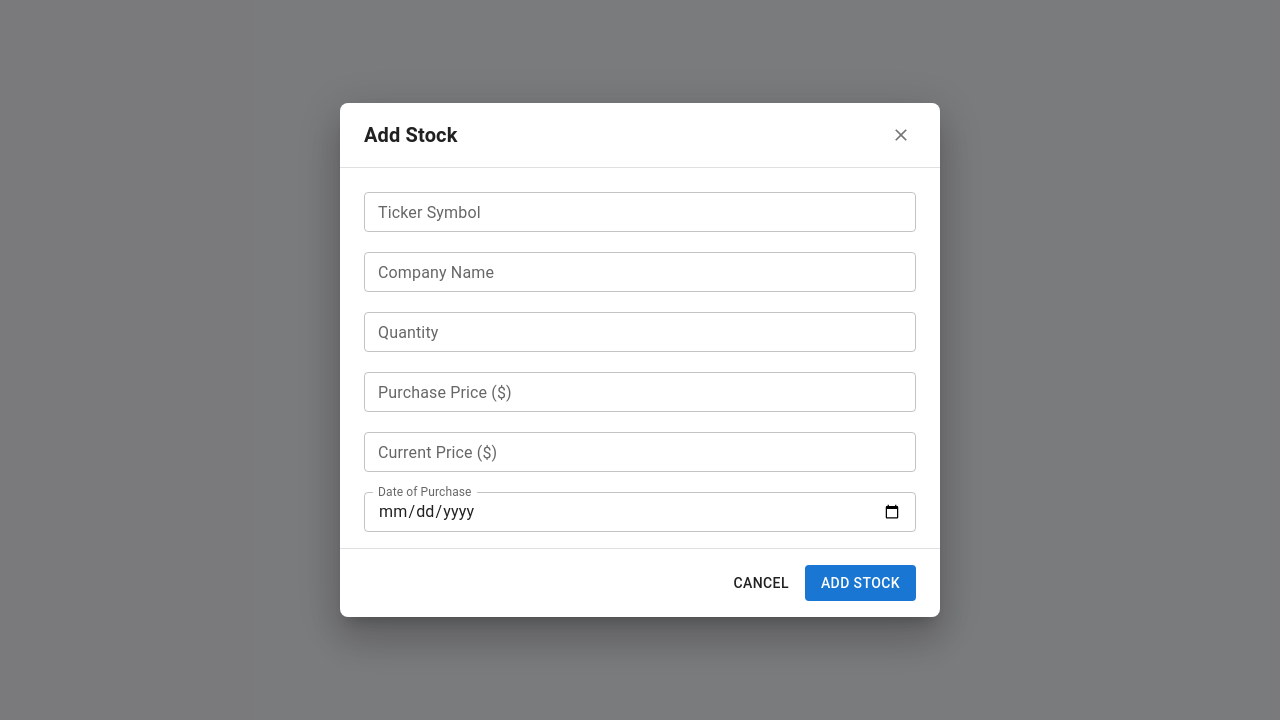
Test case: StockFormModal › should show validation errors on empty submit
# Click the submit button (last one, the action button)
Click the button "Add Stock" at {"x": 860, "y": 583}, box [805,565,916,601]
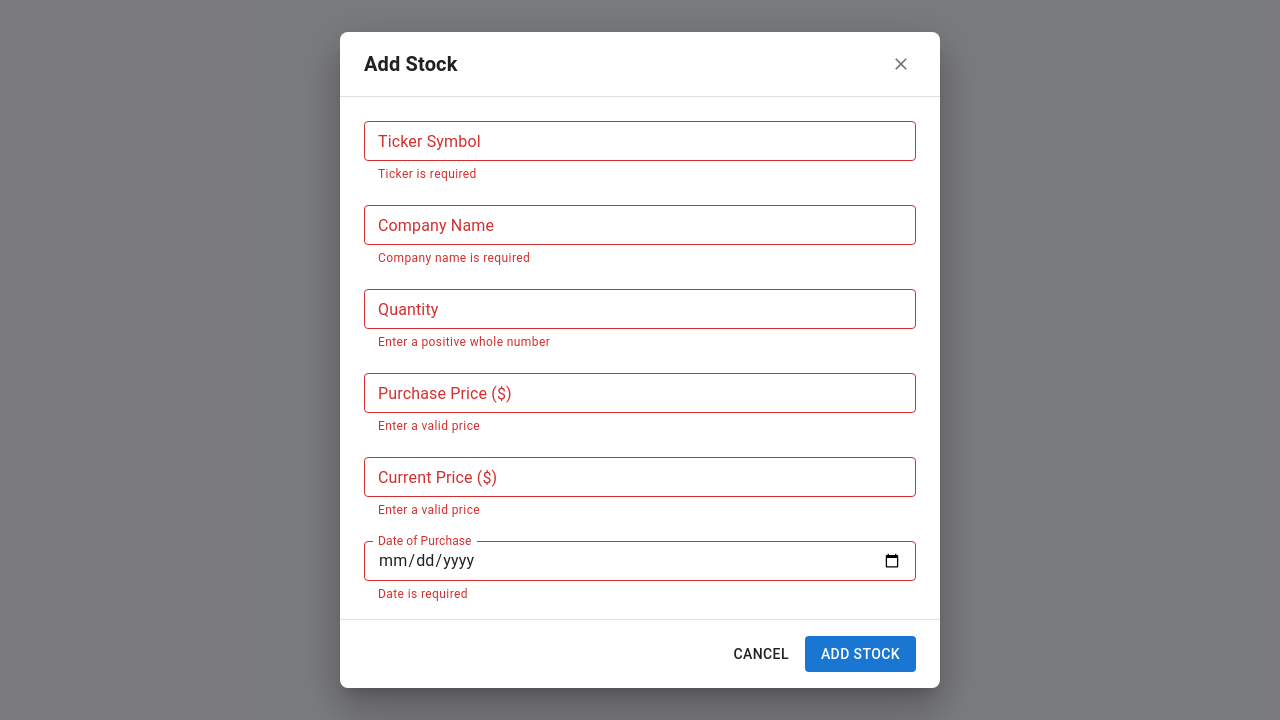
Now the text "Ticker is required" is shown, box [378,167,477,181]
Now the text "Company name is required" is shown, box [378,251,530,265]
